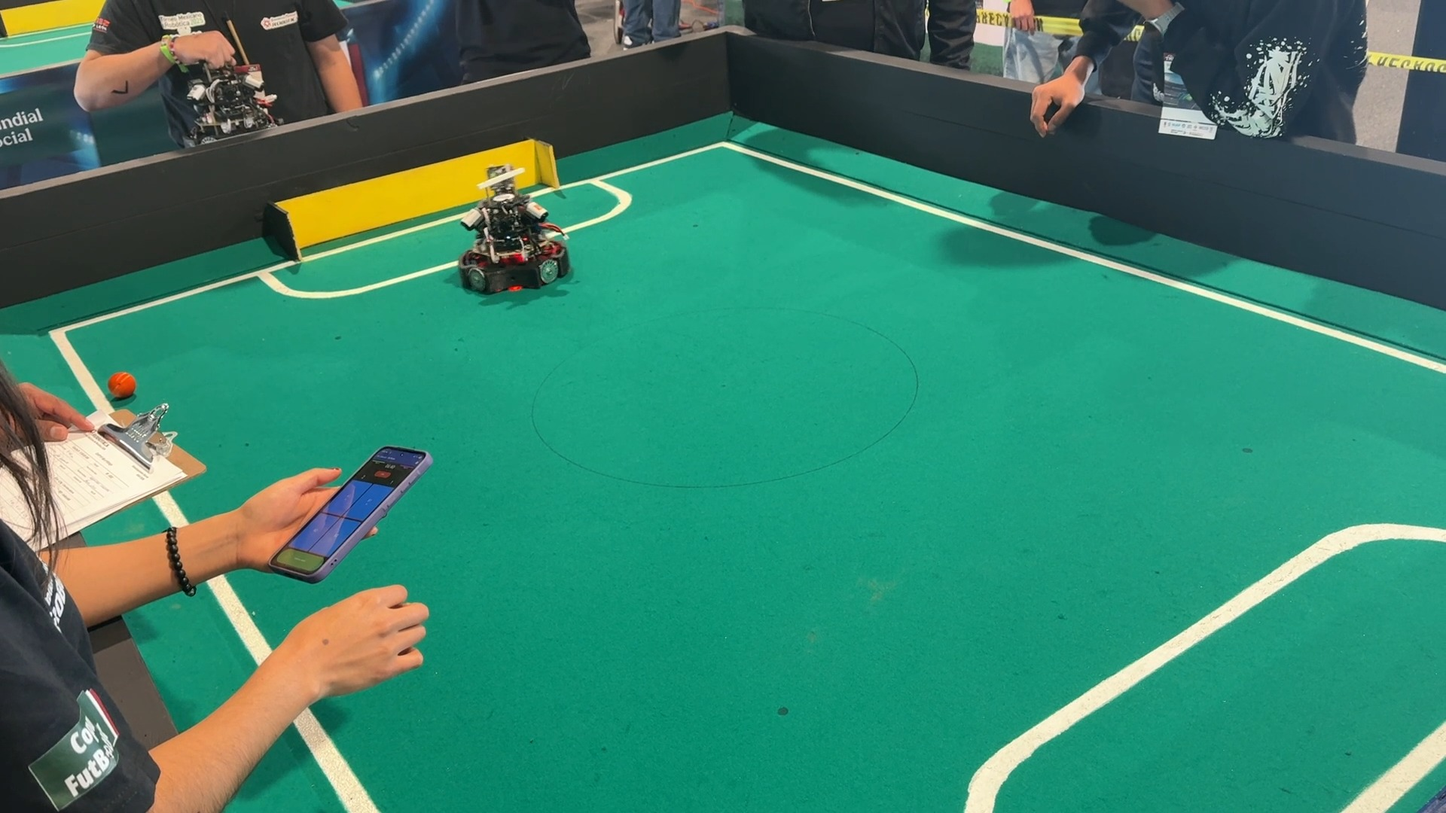Robot: (440, 143, 574, 313), (149, 48, 283, 141)
pelota: (106, 364, 147, 408)
